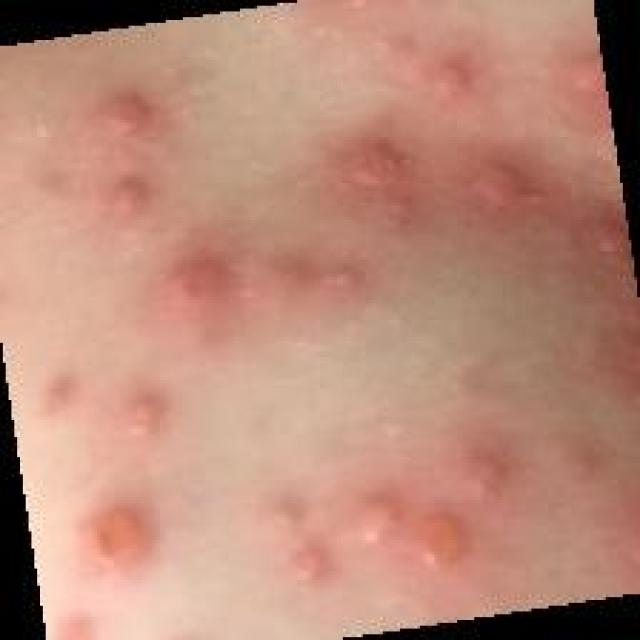others: (36, 38, 604, 575)
